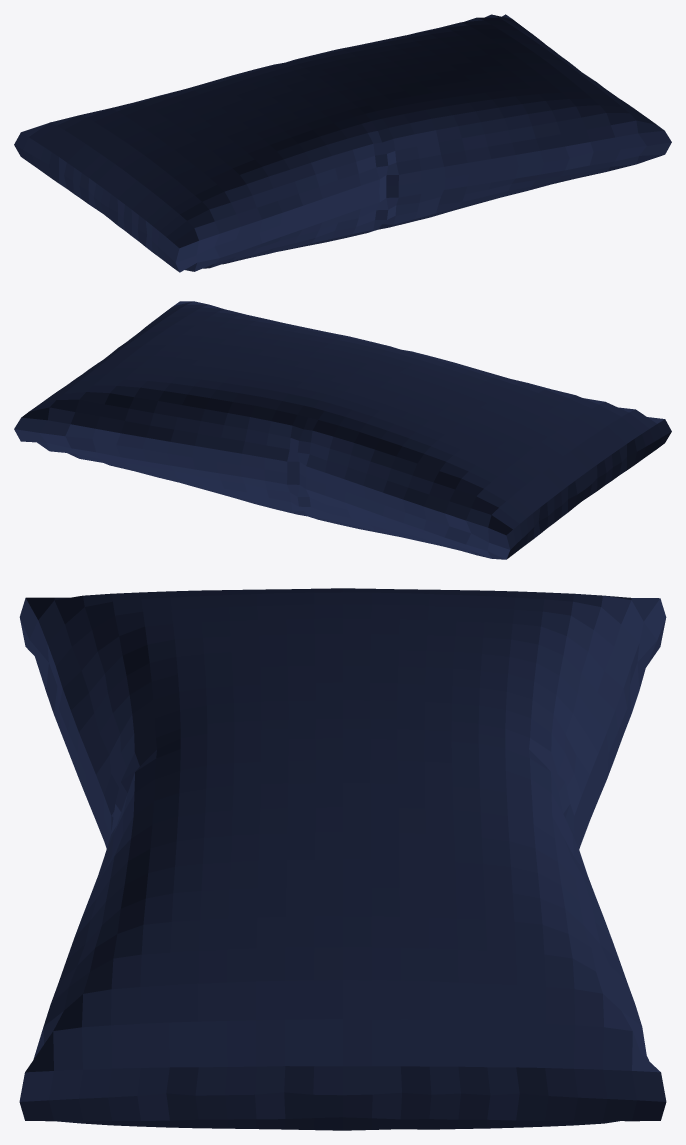
Rendered from Pillow 12.fbx.
The picture shows the model from 3 angles, top to bottom: view 1: azimuth 30°, elevation 25°; view 2: azimuth 150°, elevation 25°; view 3: azimuth 270°, elevation 25°; orthographic projection. The views are drawn at different scales.
Visible parts, largest first — view 1: Node 0; view 2: Node 0; view 3: Node 0.
Part boxes in pixels (x1,y1,x2,y2): Node 0: [14, 14, 671, 272]; Node 0: [14, 301, 671, 559]; Node 0: [19, 588, 666, 1130].
Size of the model in its own units: 0.4485 by 0.183 by 0.7946.
